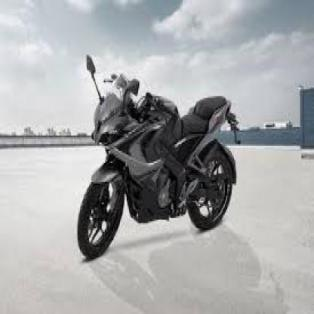Motocicleta: (76, 47, 242, 273)
